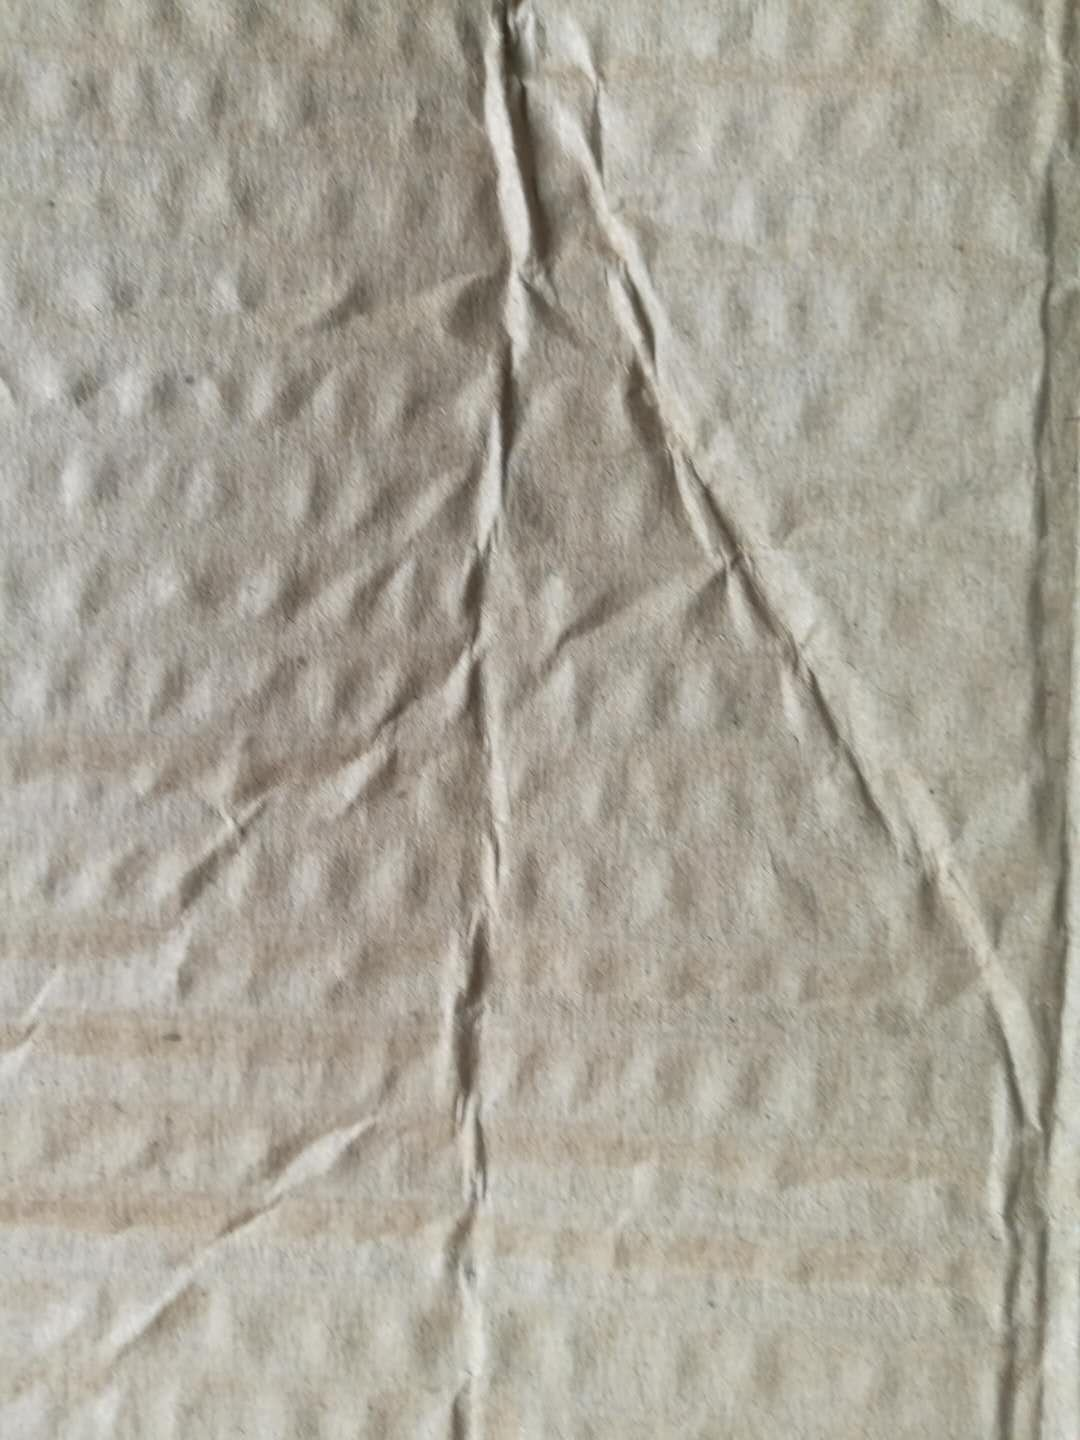defect: (8, 7, 1078, 1439)
